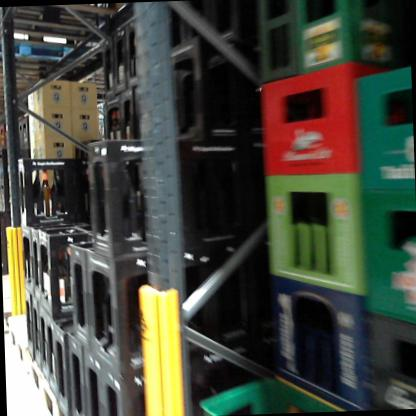pallet: (0, 33, 92, 76)
